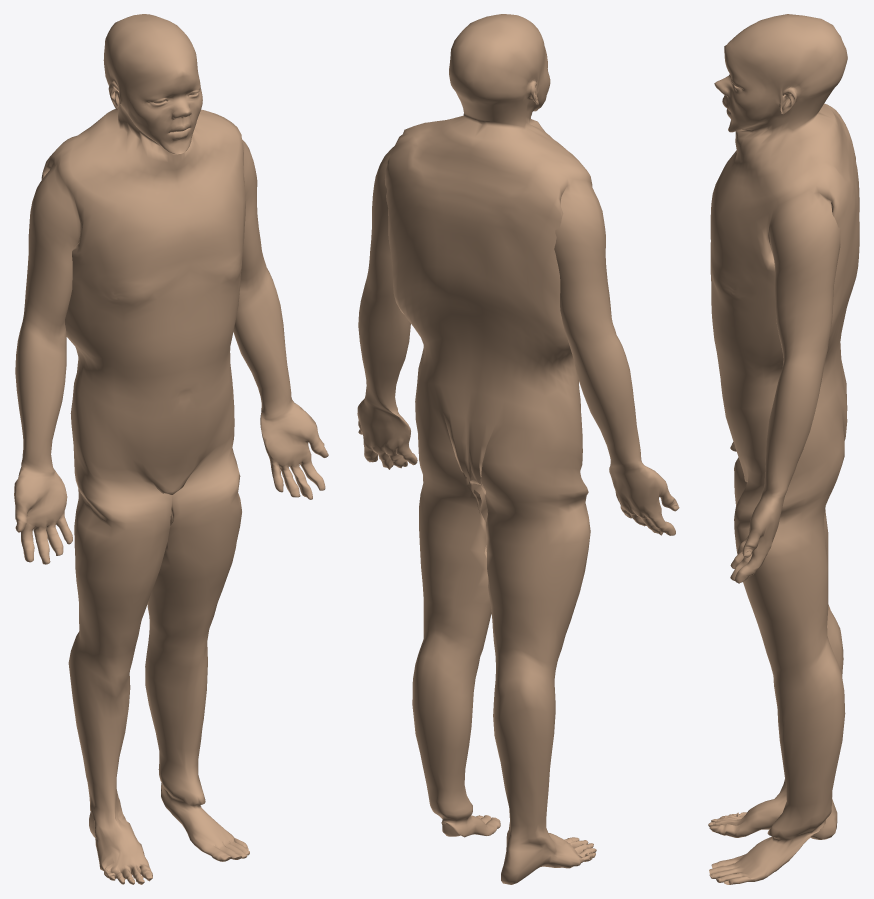
File: skin-candidate-f1c4.glb
3 renders of one model, left to right at view 1: azimuth 30°, elevation 25°; view 2: azimuth 150°, elevation 25°; view 3: azimuth 270°, elevation 25°, orthographic. The views are drawn at different scales.
Parts seen in each view (by area): view 1: MakeHuman_AT10_skin_fit_candidate_f1c4; view 2: MakeHuman_AT10_skin_fit_candidate_f1c4; view 3: MakeHuman_AT10_skin_fit_candidate_f1c4.
Part boxes in pixels (<box>): MakeHuman_AT10_skin_fit_candidate_f1c4: <box>14,14,328,884</box>; MakeHuman_AT10_skin_fit_candidate_f1c4: <box>357,14,679,884</box>; MakeHuman_AT10_skin_fit_candidate_f1c4: <box>708,14,859,884</box>.
Size of the model in its own units: 0.6758 by 1.71 by 0.2816.
